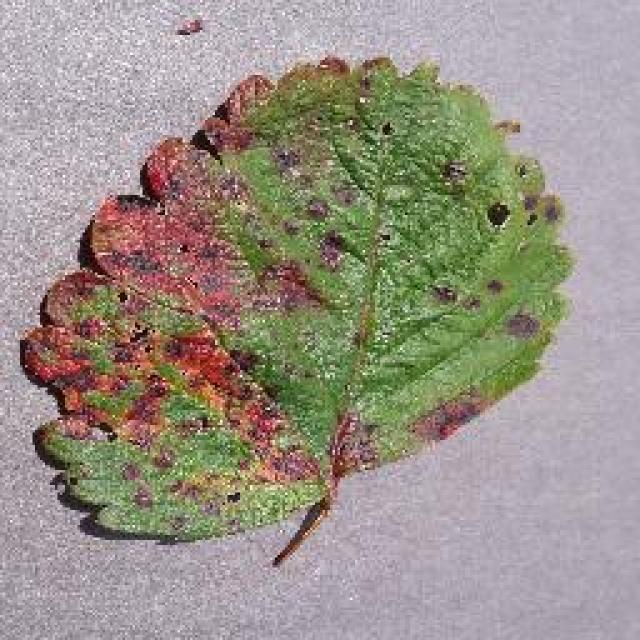Strawberry leaf scorch: (48, 135, 467, 472)
